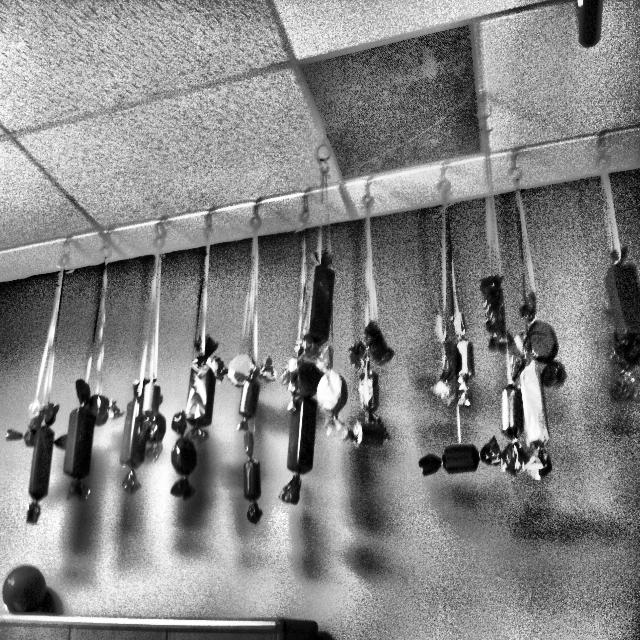hanging object: (22, 148, 576, 526)
